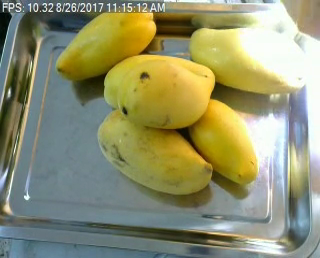Mango: (97, 110, 212, 193), (55, 5, 158, 82), (189, 27, 307, 92), (117, 59, 211, 128), (184, 97, 259, 182), (104, 54, 216, 108)
